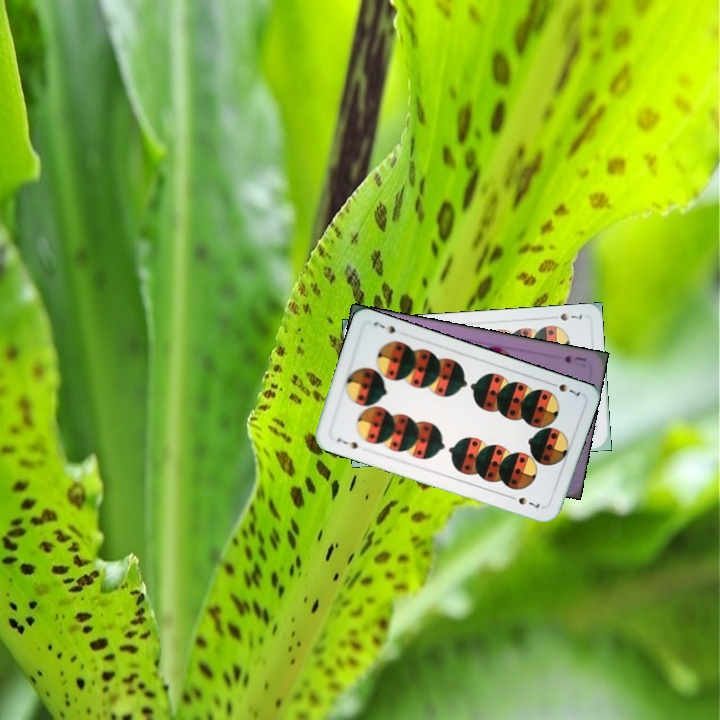S7: (545, 378, 583, 399), (546, 309, 585, 323), (333, 434, 360, 452)
SU: (560, 351, 589, 366)
